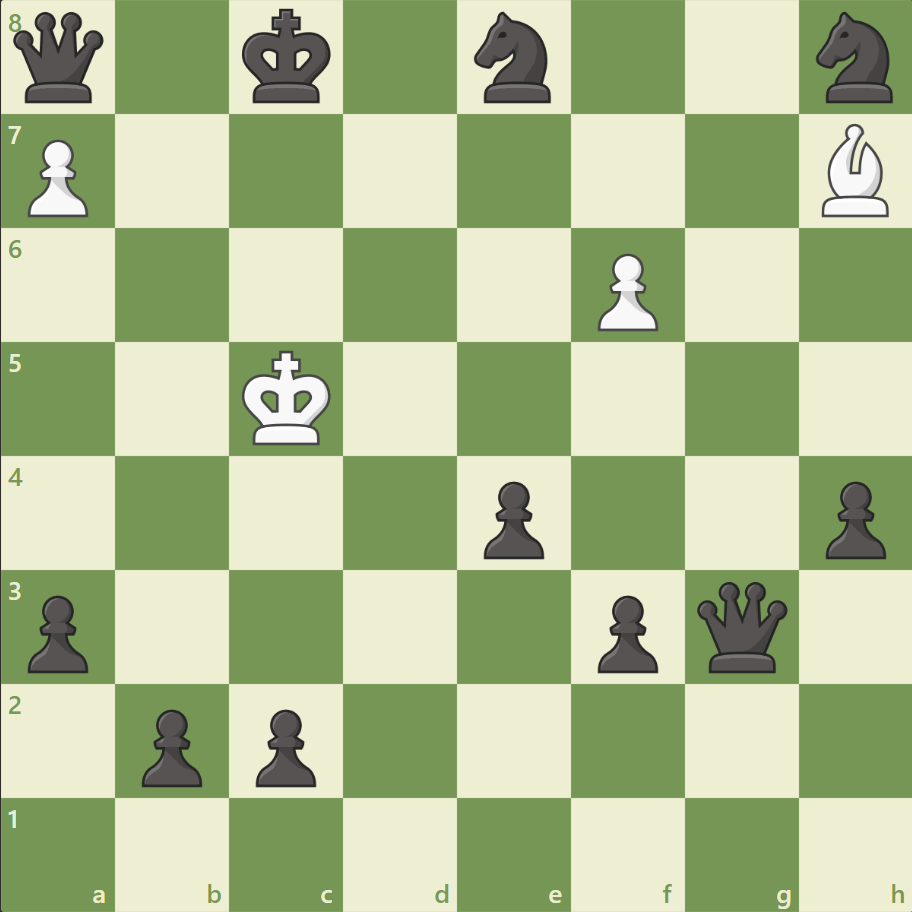B: (812, 120, 896, 222)
K: (238, 344, 338, 452)
P: (20, 132, 95, 223), (588, 246, 662, 337)
k: (238, 4, 338, 112)
n: (465, 7, 562, 110), (806, 7, 903, 110)
p: (474, 473, 549, 564), (20, 586, 95, 677), (133, 700, 208, 791), (247, 700, 322, 791), (815, 473, 889, 564), (588, 586, 662, 677)
q: (691, 576, 790, 676), (10, 9, 109, 108)
